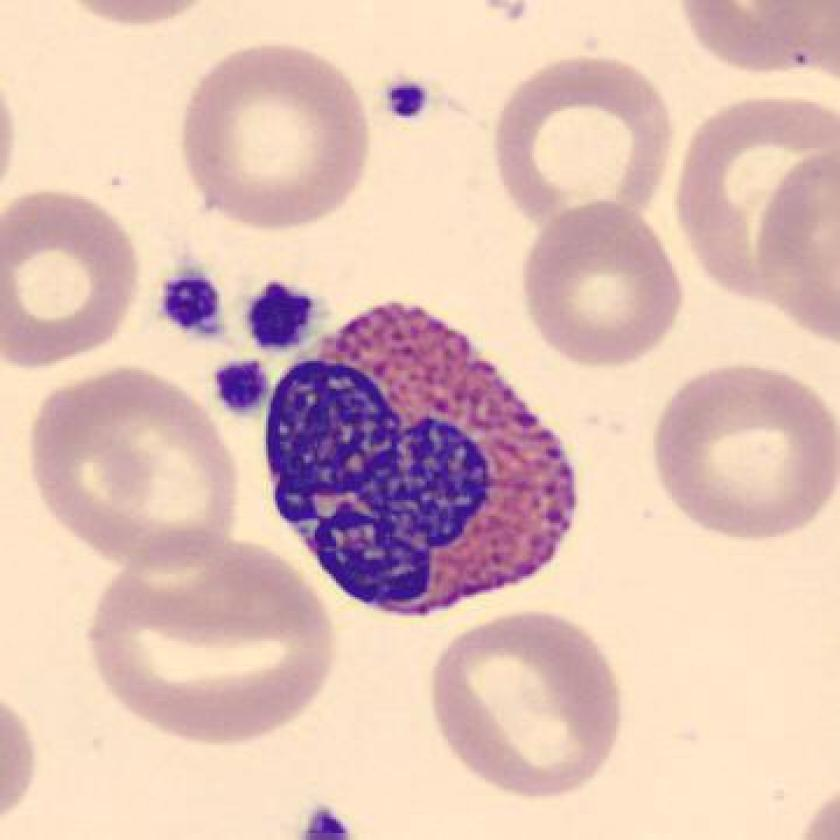eosinophil: (253, 286, 591, 635)
